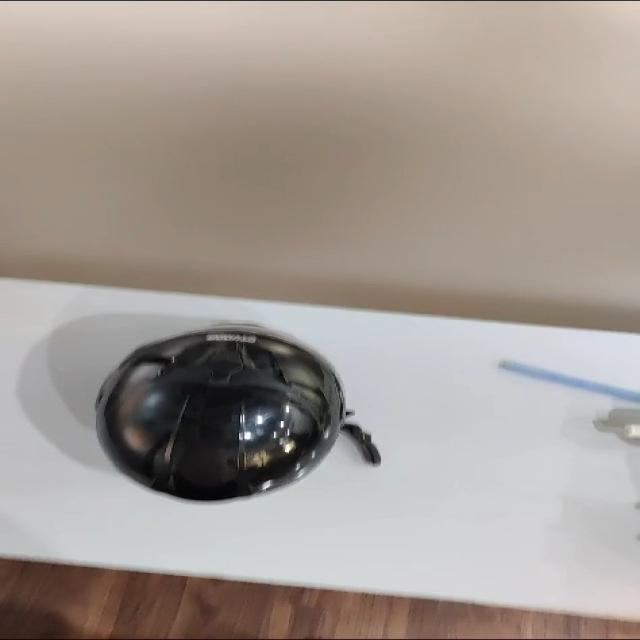helmet: (82, 322, 350, 504)
